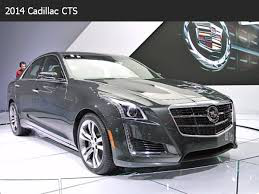car: (5, 48, 237, 173), (5, 50, 237, 173)
